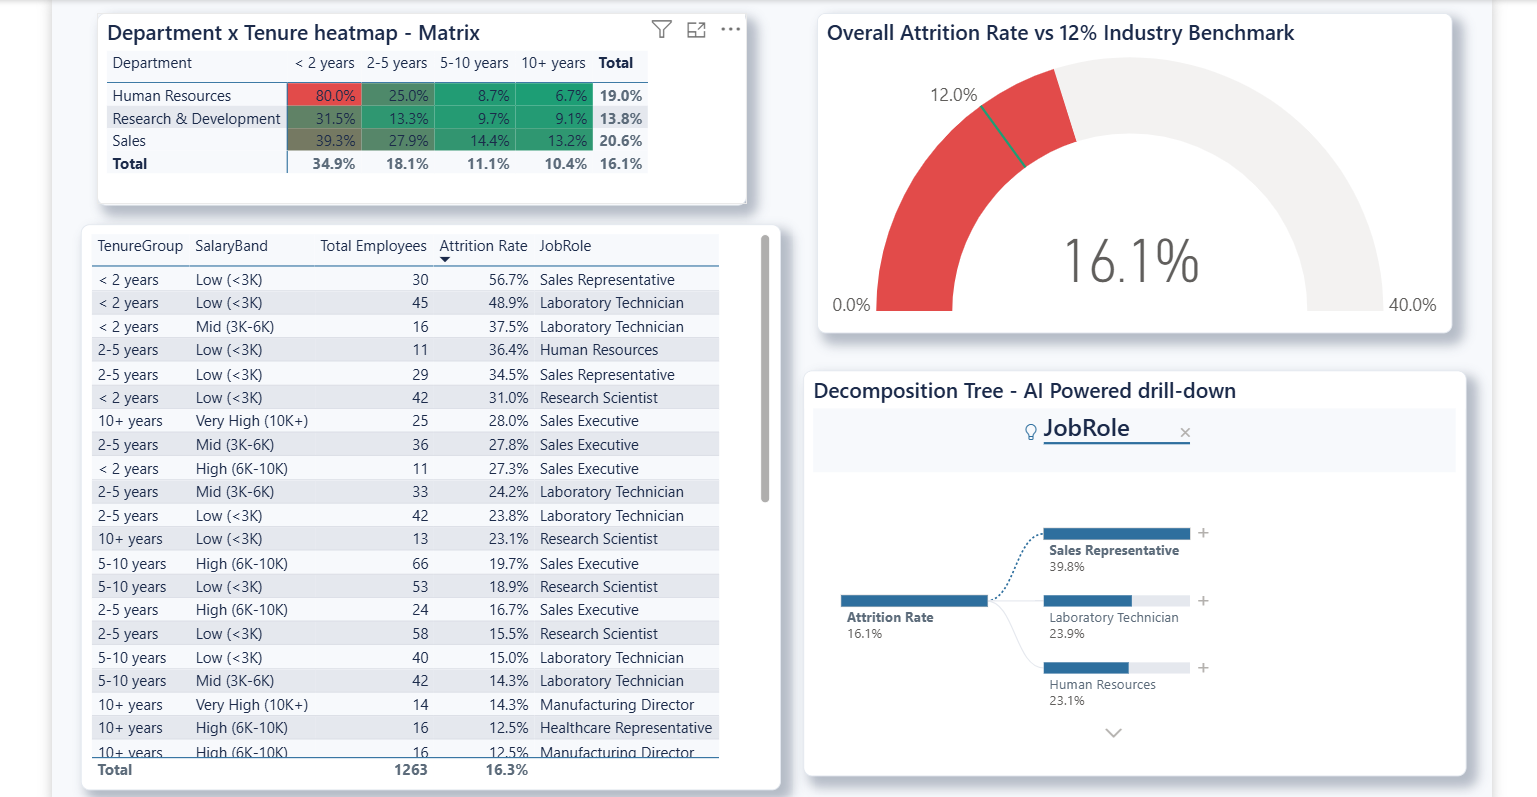

The dashboard page shown, as its layout file describes it:
{"tool":"powerbi","page":{"name":"Risk Dashboard","canvas":[1280,720],"ordinal":2},"visuals":[{"type":"pivotTable","title":"Department x Tenure heatmap - Matrix","fields":{"Rows":["hr_cleaned.Department"],"Values":["hr_cleaned.Attrition Rate"],"Columns":["hr_cleaned.TenureGroup"]},"box":[39.5,12.8,577.9,170.9],"z":0},{"type":"decompositionTreeVisual","title":"Decomposition Tree - AI Powered drill-down","fields":{"Analyze":["hr_cleaned.Attrition Rate"],"ExplainBy":["hr_cleaned.JobRole","hr_cleaned.TenureGroup","hr_cleaned.SalaryBand","hr_cleaned.OverTime","hr_cleaned.Department"]},"box":[667.4,331.4,589.5,360.5],"z":1},{"type":"gauge","title":"Overall Attrition Rate vs 12% Industry Benchmark","fields":{"Y":["hr_cleaned.Attrition Rate"],"TargetValue":["hr_cleaned.Benchmark"]},"box":[680.2,12.8,565.1,284.9],"z":2},{"type":"tableEx","fields":{"Values":["hr_cleaned.TenureGroup","hr_cleaned.SalaryBand","hr_cleaned.Total Employees","hr_cleaned.Attrition Rate","hr_cleaned.JobRole"]},"box":[25.6,201.2,622.1,503.5],"z":3}]}

Visuals, with their boxes on the page's 1280x720 design canvas (x1, y1, x2, y2). These are canvas units, not pixel positions in the 1537x797 screenshot, which may show the page scaled, cropped or inside an application window:
"Department x Tenure heatmap - Matrix" pivotTable: region(40, 13, 617, 184)
"Decomposition Tree - AI Powered drill-down" decompositionTreeVisual: region(667, 331, 1257, 692)
"Overall Attrition Rate vs 12% Industry Benchmark" gauge: region(680, 13, 1245, 298)
tableEx - hr_cleaned.TenureGroup x hr_cleaned.SalaryBand: region(26, 201, 648, 705)
